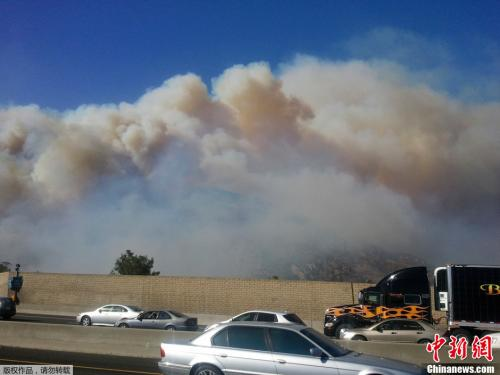smoke: (30, 93, 472, 248)
